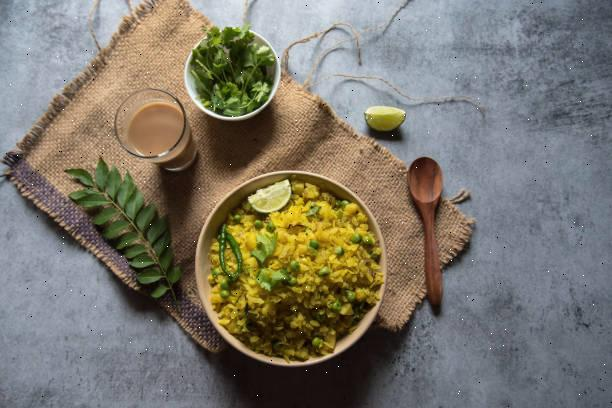poha: (219, 200, 352, 339)
